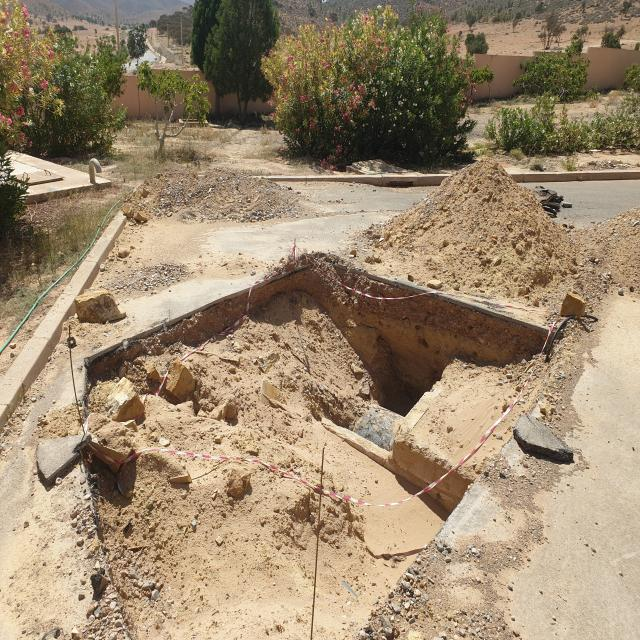Tree: (137, 64, 211, 152)
